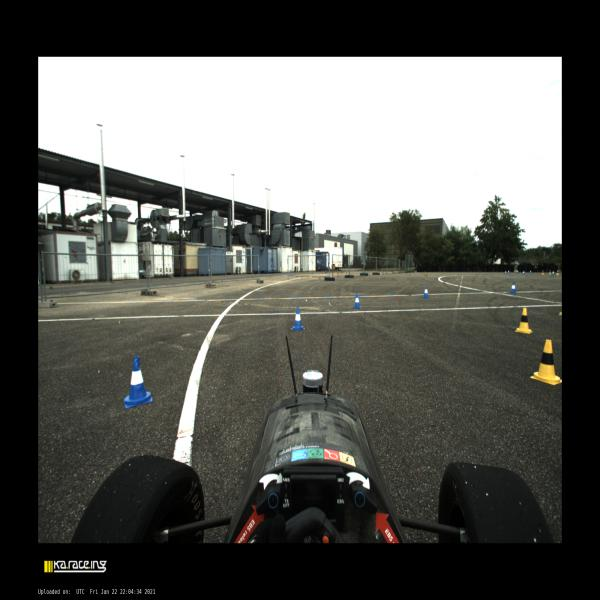blue_cone: (124, 356, 153, 408), (291, 308, 305, 330), (353, 293, 361, 309), (422, 285, 430, 298), (510, 282, 516, 294), (552, 271, 555, 275), (505, 270, 507, 274), (523, 271, 525, 274), (508, 270, 509, 274), (517, 270, 518, 274), (530, 270, 531, 273)
yellow_cone: (530, 340, 562, 384), (515, 308, 533, 334), (542, 270, 544, 275), (556, 270, 558, 275), (549, 270, 551, 274)
